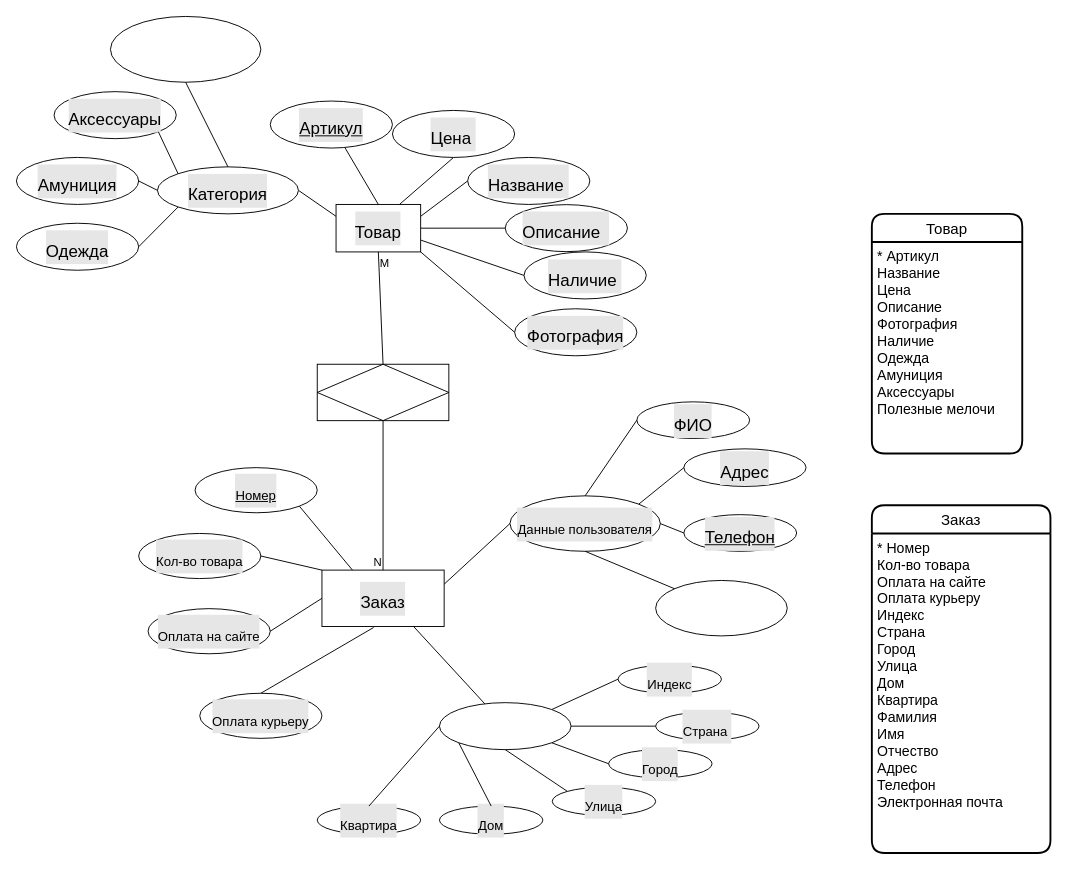
The diagram is 1068 pixels wide and 877 high, and some of its shapes have lost their labels. The shapes that lost their labels are listed below. From the top down, each one's centre as x and y in pixels, then its label:
At point (185, 49): "Полезные мелочи".
At point (382, 392): "Состоит".
At point (721, 608): "Почта".
At point (505, 726): "Доставка".
